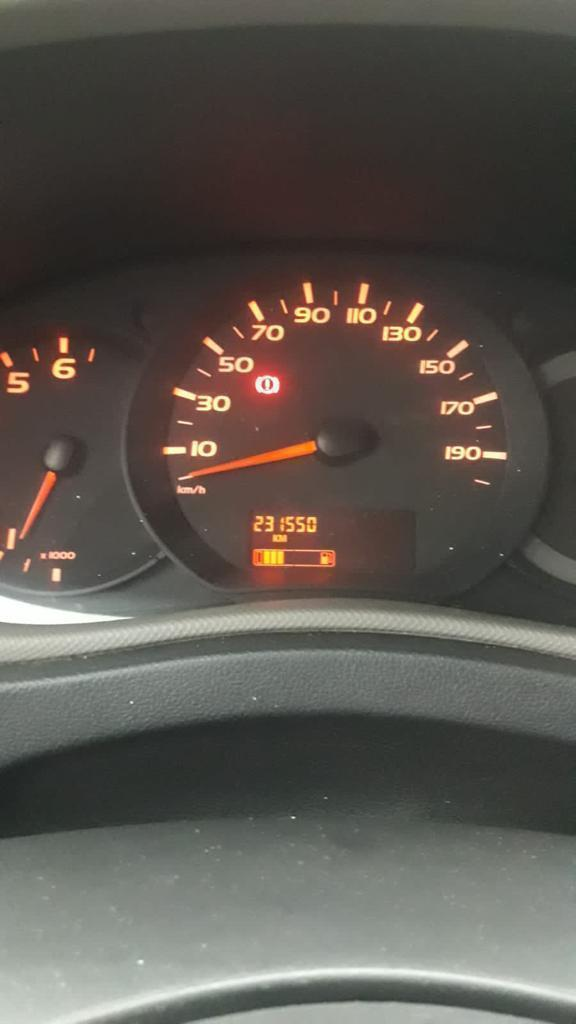0: (306, 515, 318, 533)
1: (278, 515, 285, 532)
2: (253, 514, 263, 533)
3: (264, 514, 274, 532)
5: (295, 514, 305, 532), (286, 514, 295, 533)
X: (278, 533, 288, 542), (272, 533, 278, 542)
odometer: (247, 504, 416, 582)
